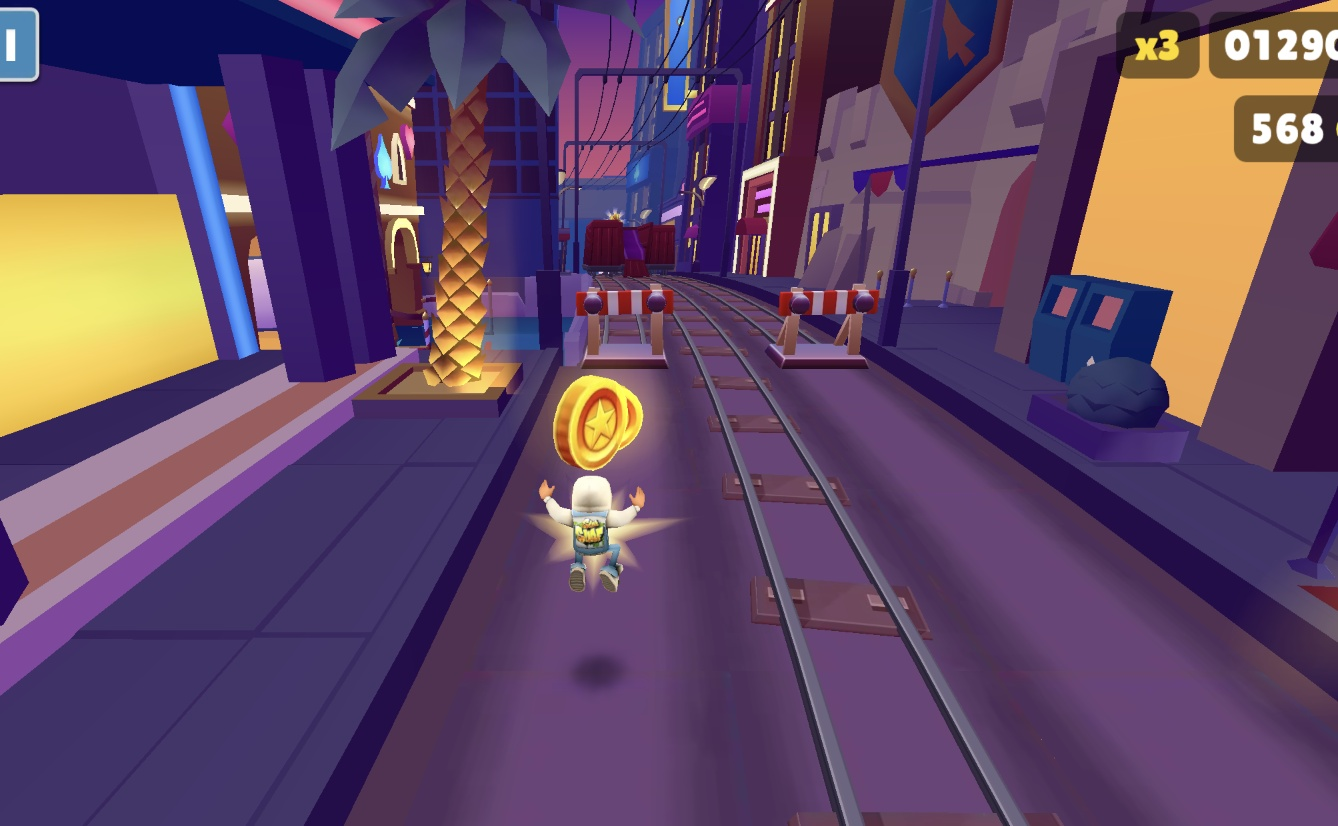overhead_barrier: (771, 284, 881, 364), (579, 284, 671, 369)
